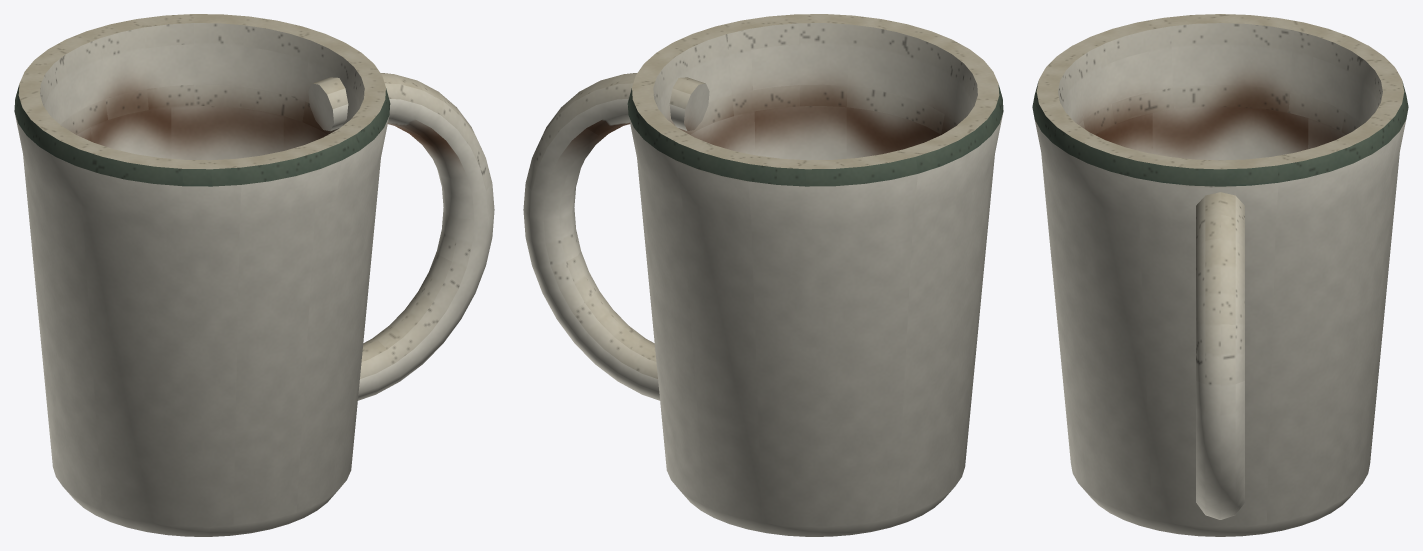
File: mug_aged.glb
3 renders of one model, left to right at view 1: azimuth 30°, elevation 25°; view 2: azimuth 150°, elevation 25°; view 3: azimuth 270°, elevation 25°, orthographic.
Visible parts, largest first — view 1: Cup, Handle; view 2: Cup, Handle; view 3: Cup, Handle.
Part boxes in pixels (left/top/right/bottom): Cup: left=14, top=14, right=390, bottom=536; Handle: left=308, top=73, right=494, bottom=400; Cup: left=627, top=14, right=1003, bottom=536; Handle: left=523, top=73, right=709, bottom=400; Cup: left=1032, top=14, right=1408, bottom=536; Handle: left=1196, top=192, right=1244, bottom=519.
Size of the model in its own units: 0.122 by 0.1 by 0.088.
Materials: 4 (4 with a texture image).
